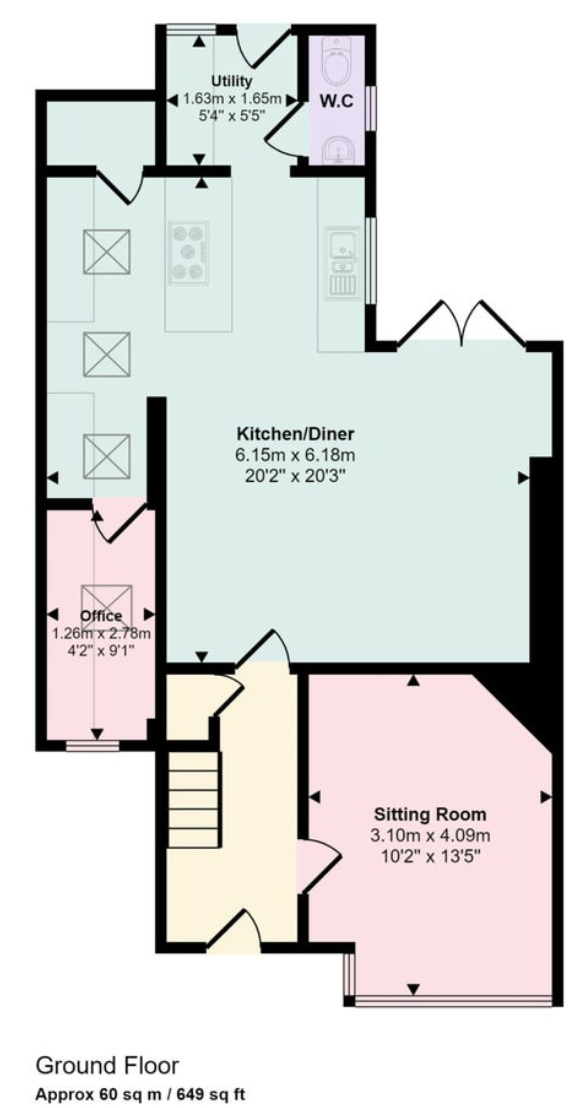basin: (316, 136, 357, 164)
door: (395, 295, 461, 344), (460, 296, 526, 345), (236, 18, 293, 70), (262, 101, 313, 157), (296, 838, 346, 895), (204, 905, 263, 949), (91, 498, 143, 547), (232, 625, 290, 668), (95, 163, 146, 204), (211, 673, 247, 720)
sink: (322, 224, 368, 303)
toilet: (318, 33, 354, 85)
window: (354, 996, 554, 1008), (362, 218, 379, 304), (164, 21, 217, 38), (65, 738, 122, 753), (364, 86, 382, 131), (340, 952, 355, 993)
